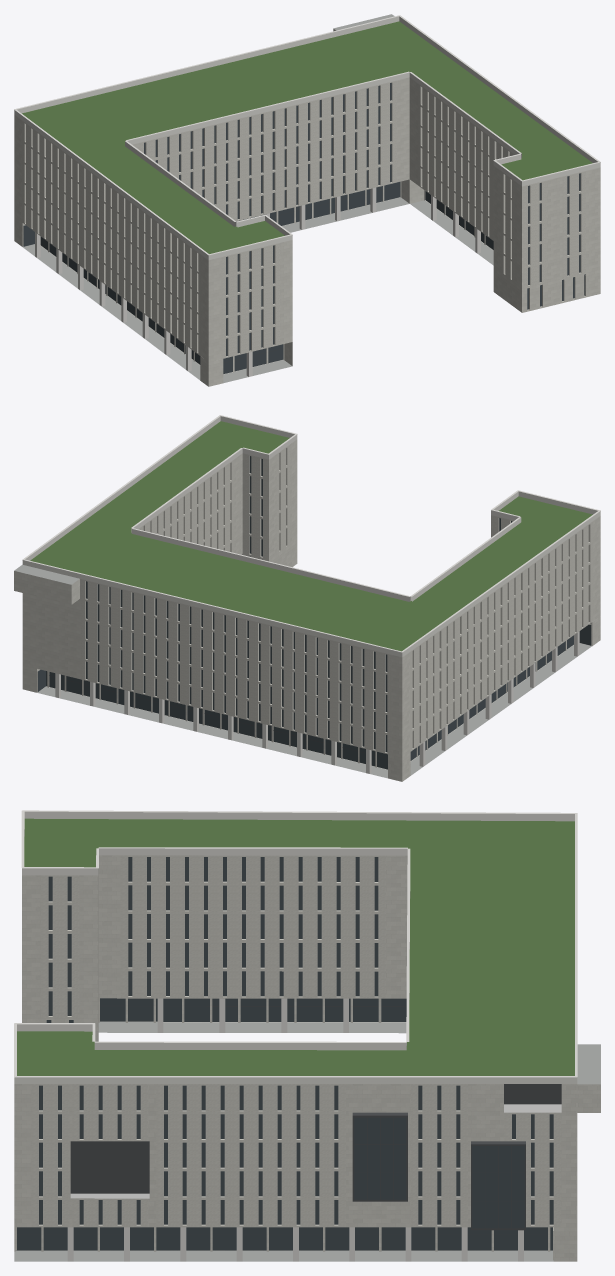
3 renders of one model, top to bottom at view 1: azimuth 30°, elevation 25°; view 2: azimuth 150°, elevation 25°; view 3: azimuth 270°, elevation 25°, orthographic. The views are drawn at different scales.
Parts seen in each view (by area): view 1: libertasB__wall, libertasB__green, libertasB__glass, libertasB__parapet, libertasB__roof, libertasB__trim, libertasB__column; view 2: libertasB__wall, libertasB__green, libertasB__glass, libertasB__parapet, libertasB__roof, libertasB__trim, libertasB__column; view 3: libertasB__wall, libertasB__green, libertasB__glass, libertasB__parapet, libertasB__roof, libertasB__frame, libertasB__trim, libertasB__column, libertasB__soffit.
Boxes of the visible parts, <box> form: libertasB__wall: <box>14,28,600,386</box>; libertasB__green: <box>22,21,592,253</box>; libertasB__glass: <box>23,83,585,373</box>; libertasB__parapet: <box>14,16,600,260</box>; libertasB__roof: <box>23,14,493,383</box>; libertasB__trim: <box>14,15,600,255</box>; libertasB__column: <box>35,187,480,376</box>; libertasB__wall: <box>14,439,600,781</box>; libertasB__green: <box>30,421,592,651</box>; libertasB__glass: <box>38,456,591,769</box>; libertasB__parapet: <box>22,416,600,657</box>; libertasB__roof: <box>14,564,591,778</box>; libertasB__trim: <box>22,415,600,652</box>; libertasB__column: <box>55,631,579,773</box>; libertasB__wall: <box>14,855,600,1261</box>; libertasB__green: <box>17,818,574,1075</box>; libertasB__glass: <box>16,857,553,1250</box>; libertasB__parapet: <box>14,811,577,1083</box>; libertasB__roof: <box>14,1022,600,1261</box>; libertasB__frame: <box>17,1005,561,1234</box>; libertasB__trim: <box>14,810,577,1077</box>; libertasB__column: <box>67,998,523,1261</box>; libertasB__soffit: <box>70,1104,561,1198</box>.
Bounding box in the file's own units: 80.79 × 25.8 × 74.35.
Materials: 9 (1 with a texture image).
